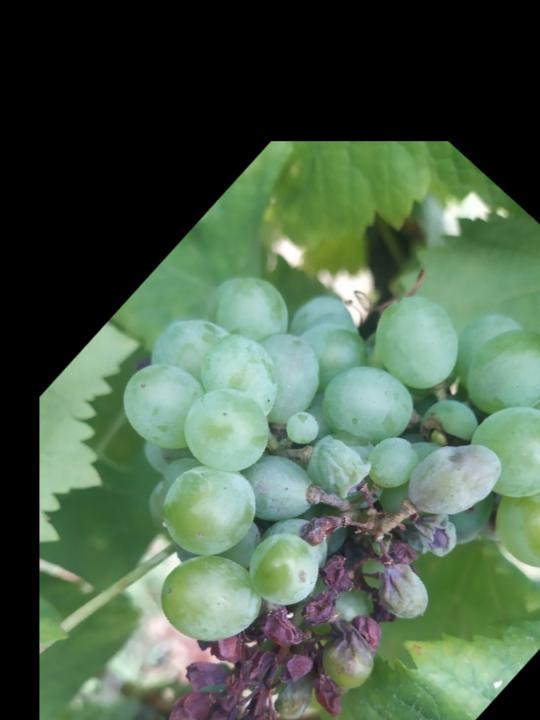grape: (0, 136, 540, 720)
